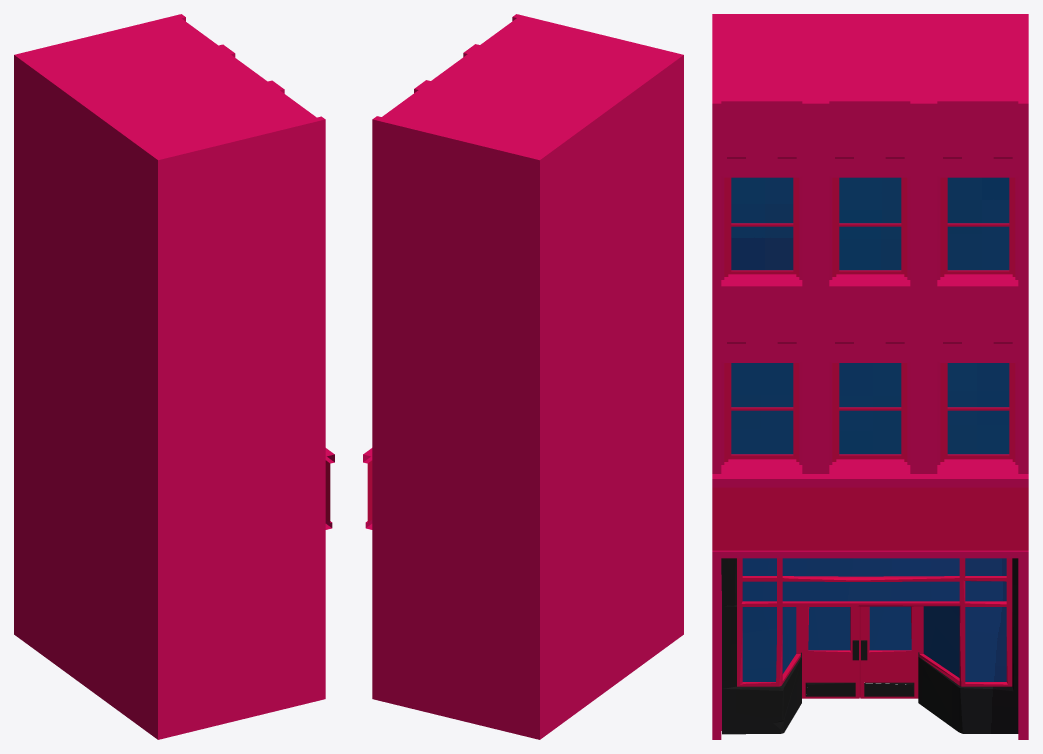
Rendered from Building_Deco03.fbx.
3 views of the same model, side by side, from view 1: azimuth 30°, elevation 25°; view 2: azimuth 150°, elevation 25°; view 3: azimuth 270°, elevation 25° (orthographic). The views are drawn at different scales.
Parts seen in each view (by area): view 1: SM_City_Building_Deco_01c.mo; view 2: SM_City_Building_Deco_01c.mo; view 3: SM_City_Building_Deco_01c.mo.
Part boxes in pixels (left/top/right/bottom): SM_City_Building_Deco_01c.mo: left=14, top=14, right=334, bottom=739; SM_City_Building_Deco_01c.mo: left=363, top=14, right=683, bottom=739; SM_City_Building_Deco_01c.mo: left=712, top=14, right=1028, bottom=739.
Size of the model in its own units: 434 by 1360 by 612.
